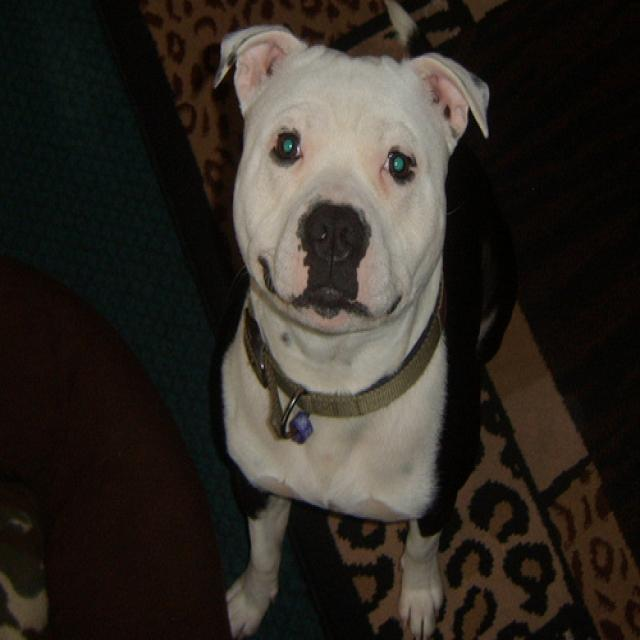dog-staffordshire_bull_terrier: (204, 19, 532, 637)
